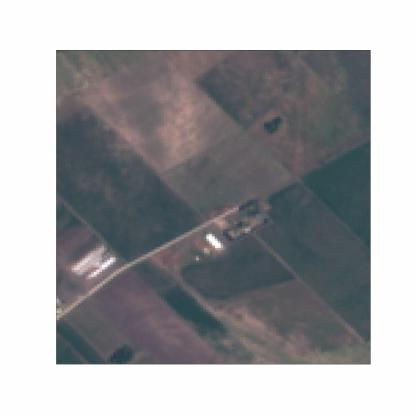silobolsa: (73, 246, 105, 274), (90, 255, 118, 278), (205, 233, 226, 251)
